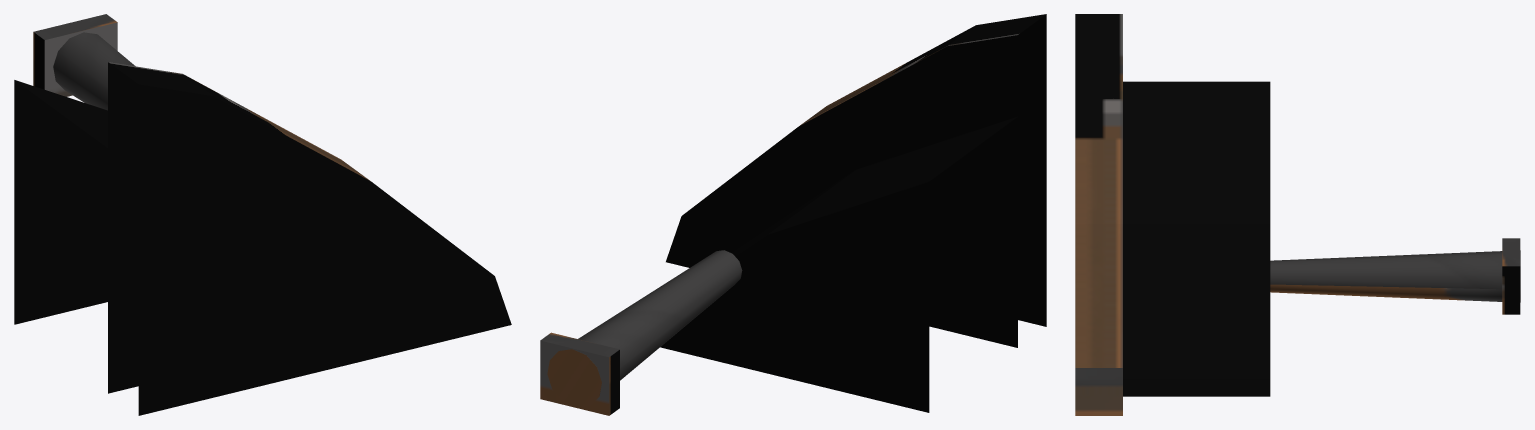
The model's file is section-18.obj.
3 renders of one model, left to right at view 1: azimuth 30°, elevation 25°; view 2: azimuth 150°, elevation 25°; view 3: azimuth 270°, elevation 25°, orthographic. The views are drawn at different scales.
Size of the model in its own units: 0.8483 by 0.7204 by 1.12.
